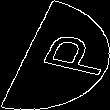P_W: (11, 29, 99, 81)
